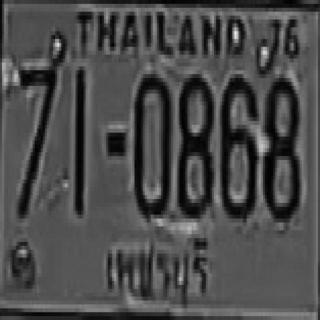N00: (132, 70, 169, 215)
N01: (73, 64, 84, 213)
N06: (219, 72, 256, 217)
N07: (16, 59, 57, 214)
N08: (175, 70, 212, 215), (261, 74, 298, 218)
P44: (100, 231, 212, 314)
